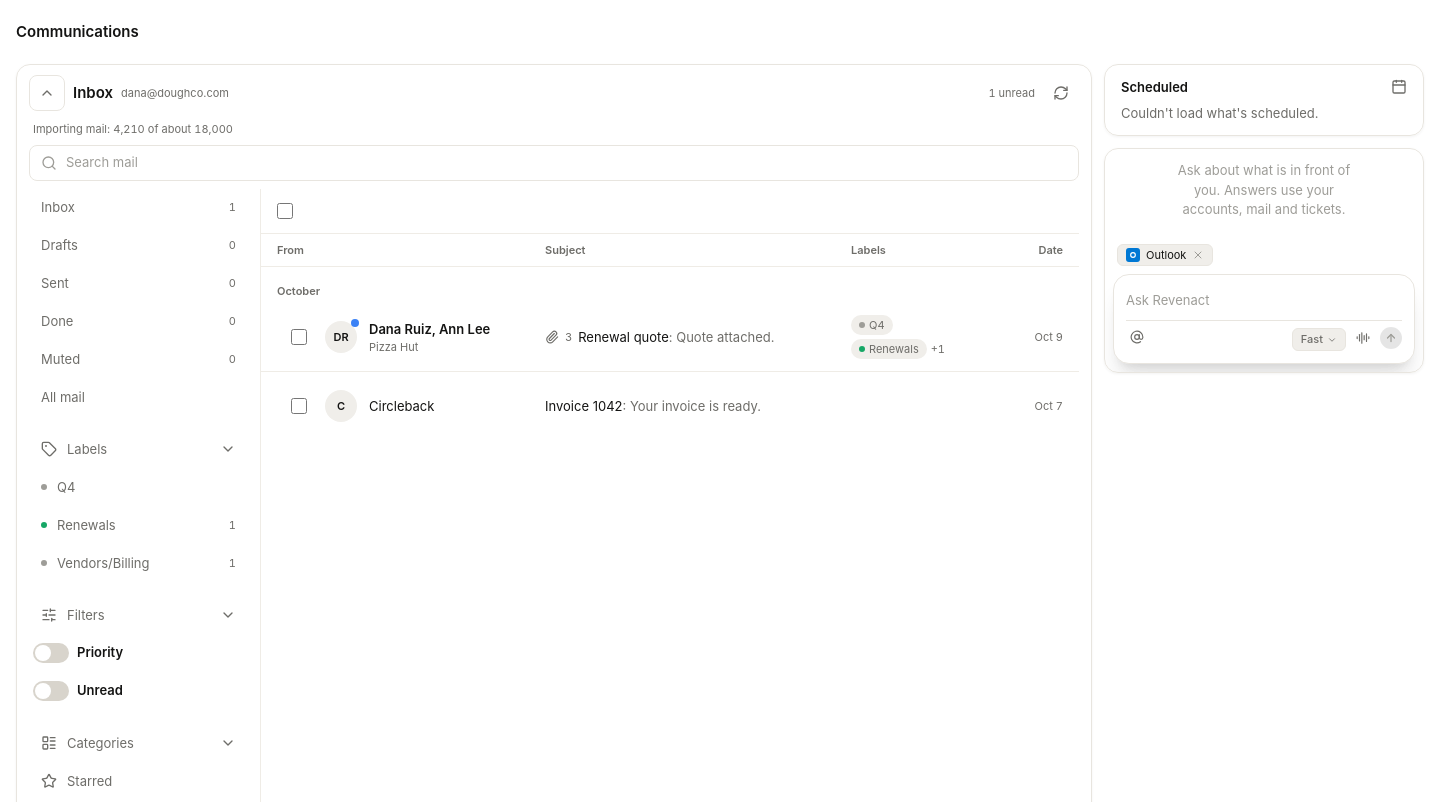
Test case: The Drafts folder on Outlook keeps D2 exactly › the bulk bar keeps Mark done and Mark read, and offers no draft Delete
Click the button "Drafts 0". click: (138, 245)
box: [29,227,248,263]
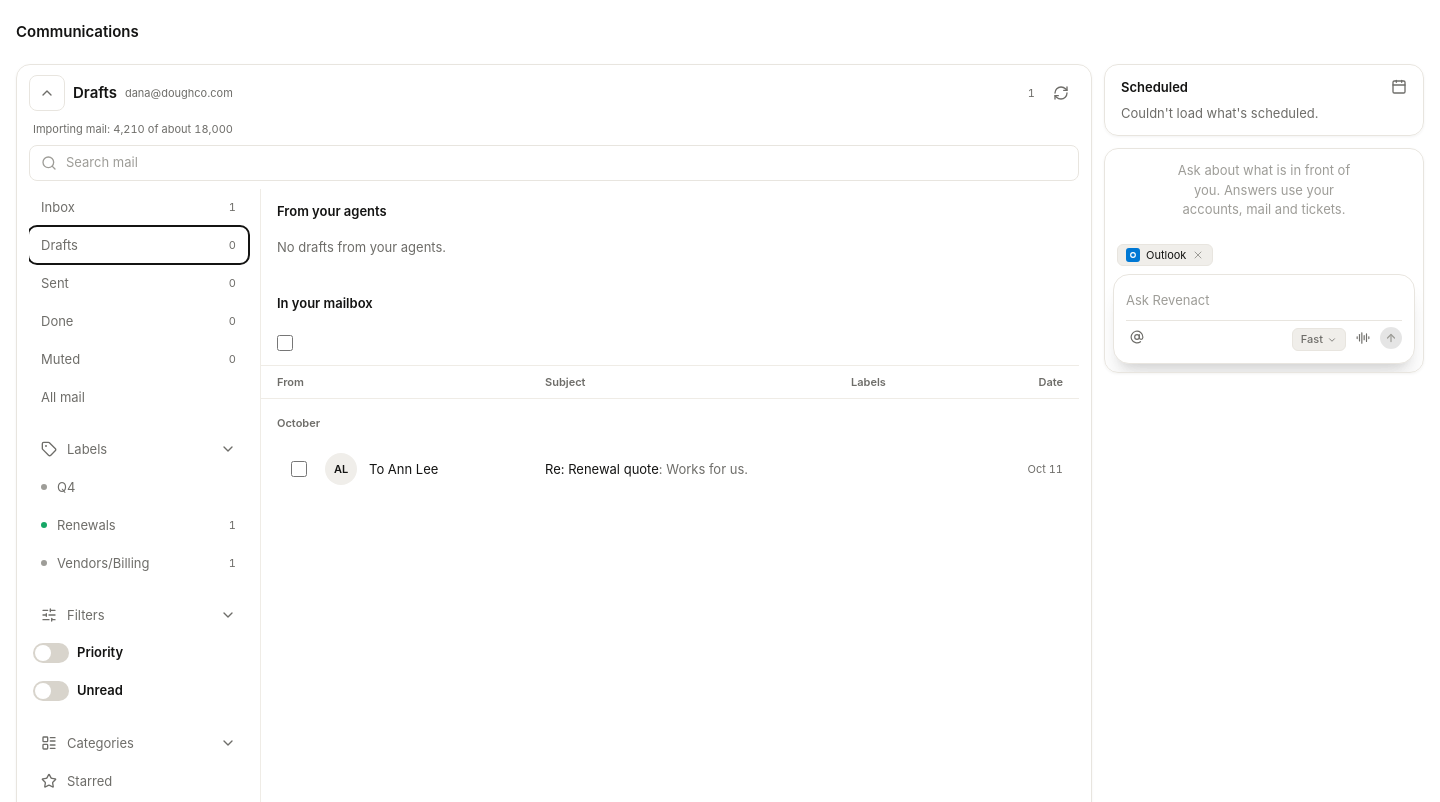
Check: the button "To Ann Lee" is shown, box [369,459,533,479]
Click the checkbox named "Select To Ann Lee". click: (299, 469)
box: [291,461,307,477]
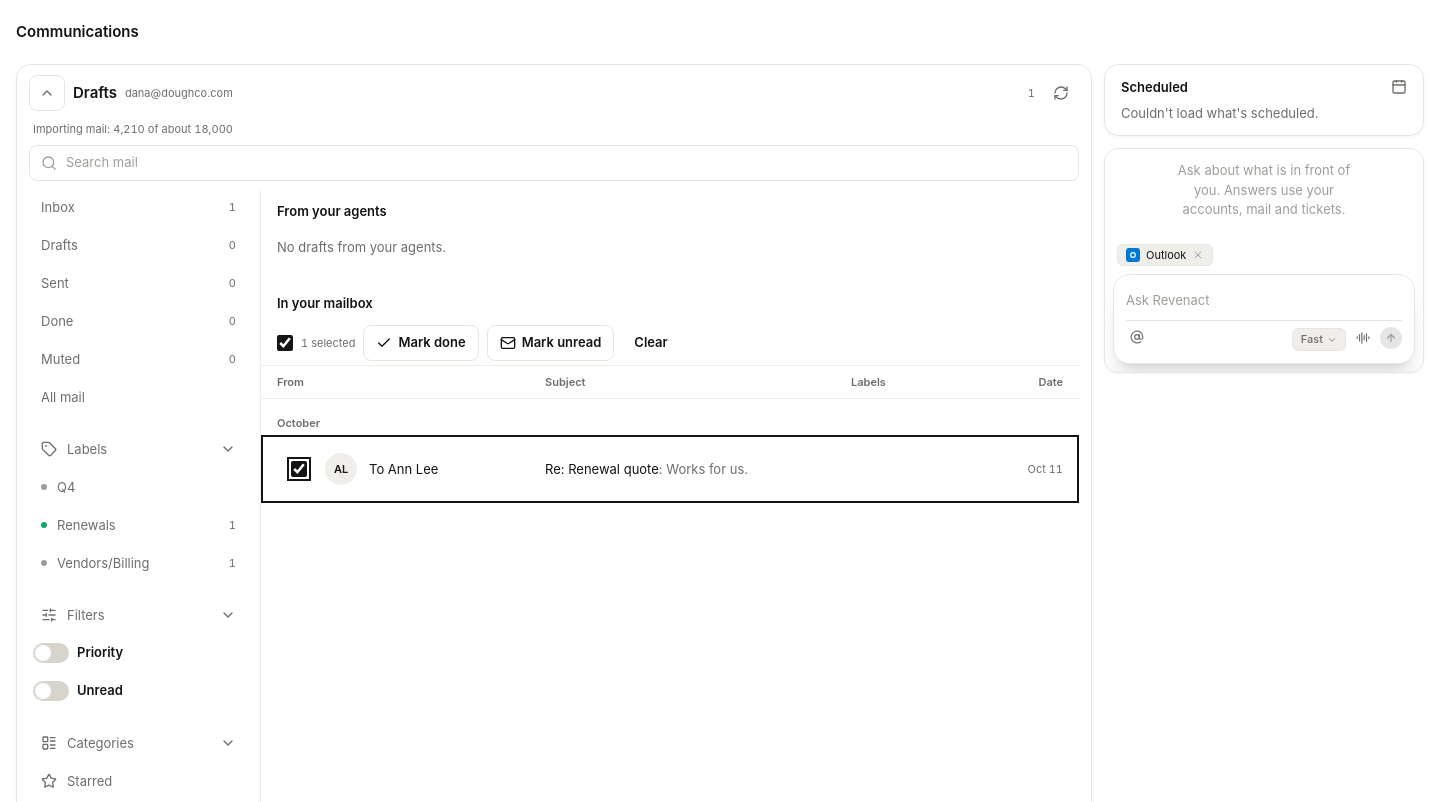
Check: the button "Mark done" is shown, box [364,325,479,361]
Check: the button "Mark unread" is shown, box [487,325,614,361]
